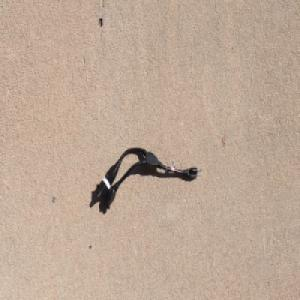Wire: (94, 145, 202, 209)
